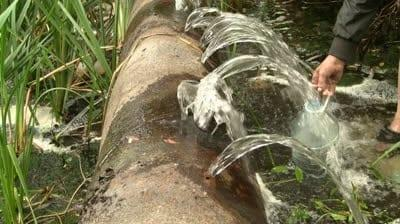water_leak: (177, 6, 381, 222)
